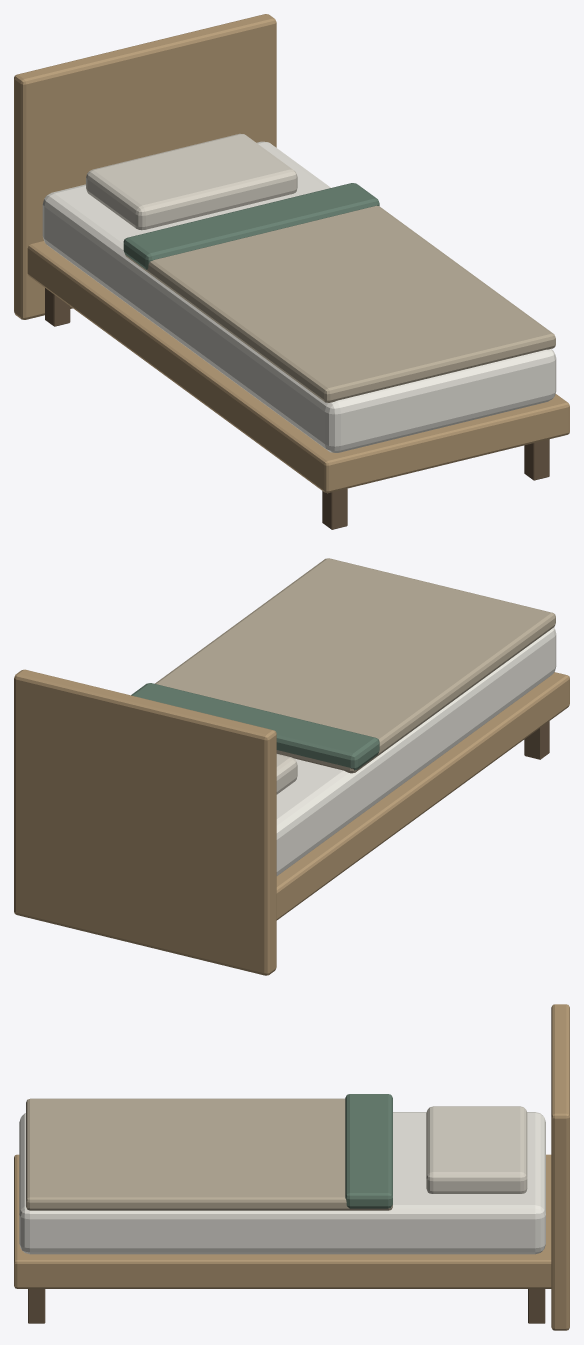
File: bed_single.glb
3 renders of one model, top to bottom at view 1: azimuth 30°, elevation 25°; view 2: azimuth 150°, elevation 25°; view 3: azimuth 270°, elevation 25°, orthographic. The views are drawn at different scales.
Parts seen in each view (by area): view 1: bed_single; view 2: bed_single; view 3: bed_single.
Boxes of the visible parts, left/top/right/bottom form: bed_single: left=14, top=14, right=569, bottom=529; bed_single: left=14, top=558, right=569, bottom=975; bed_single: left=14, top=1004, right=569, bottom=1330.
Size of the model in its own units: 1 by 0.9 by 2.09.
